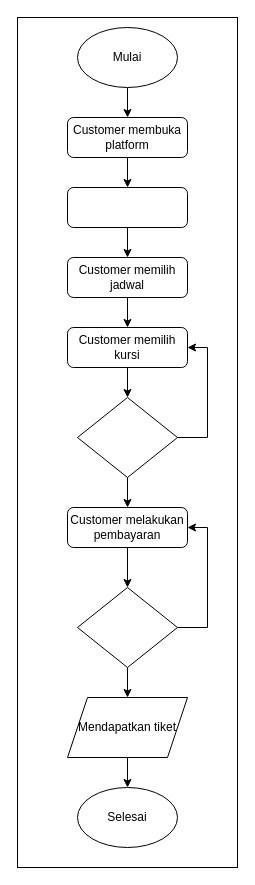
Some shapes in this 255 by 885 pixel diagram are drawn without their labels. Here are the shapes that lost their labels. From the top down, the centre of each, then its label:
(127,207): Customer memilih film
(127,437): Kursi tersedia ?
(127,627): Pembayaran Valid?
